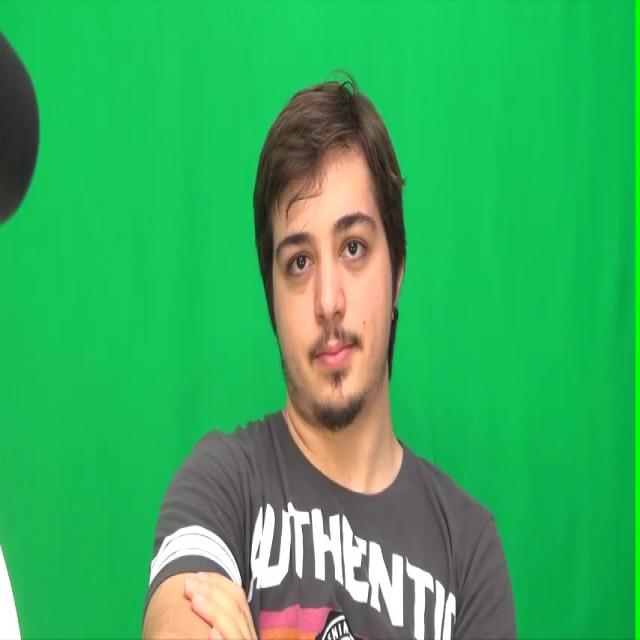Boredom: (270, 145, 390, 412)
